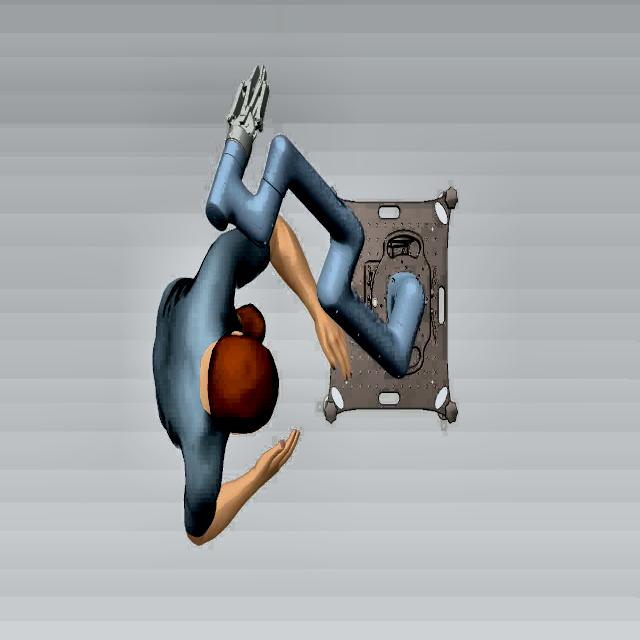human: (152, 210, 352, 546)
robot: (203, 76, 429, 392)
